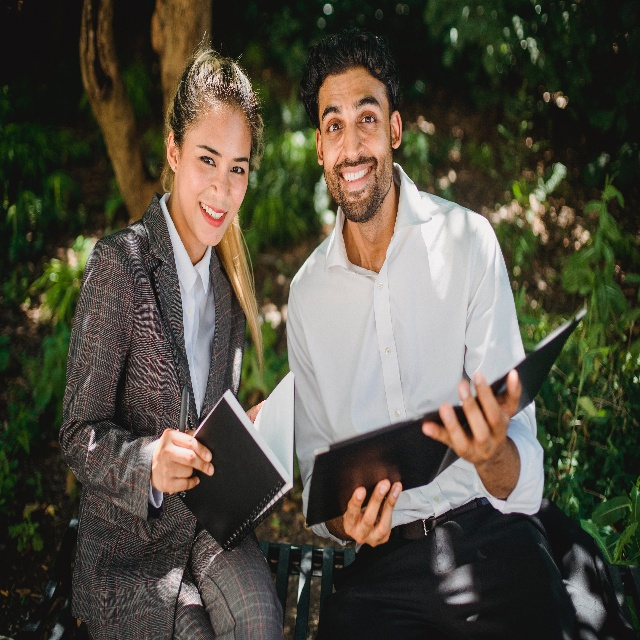Sin_guantes: (422, 368, 523, 458), (343, 481, 405, 548), (154, 430, 214, 495)
